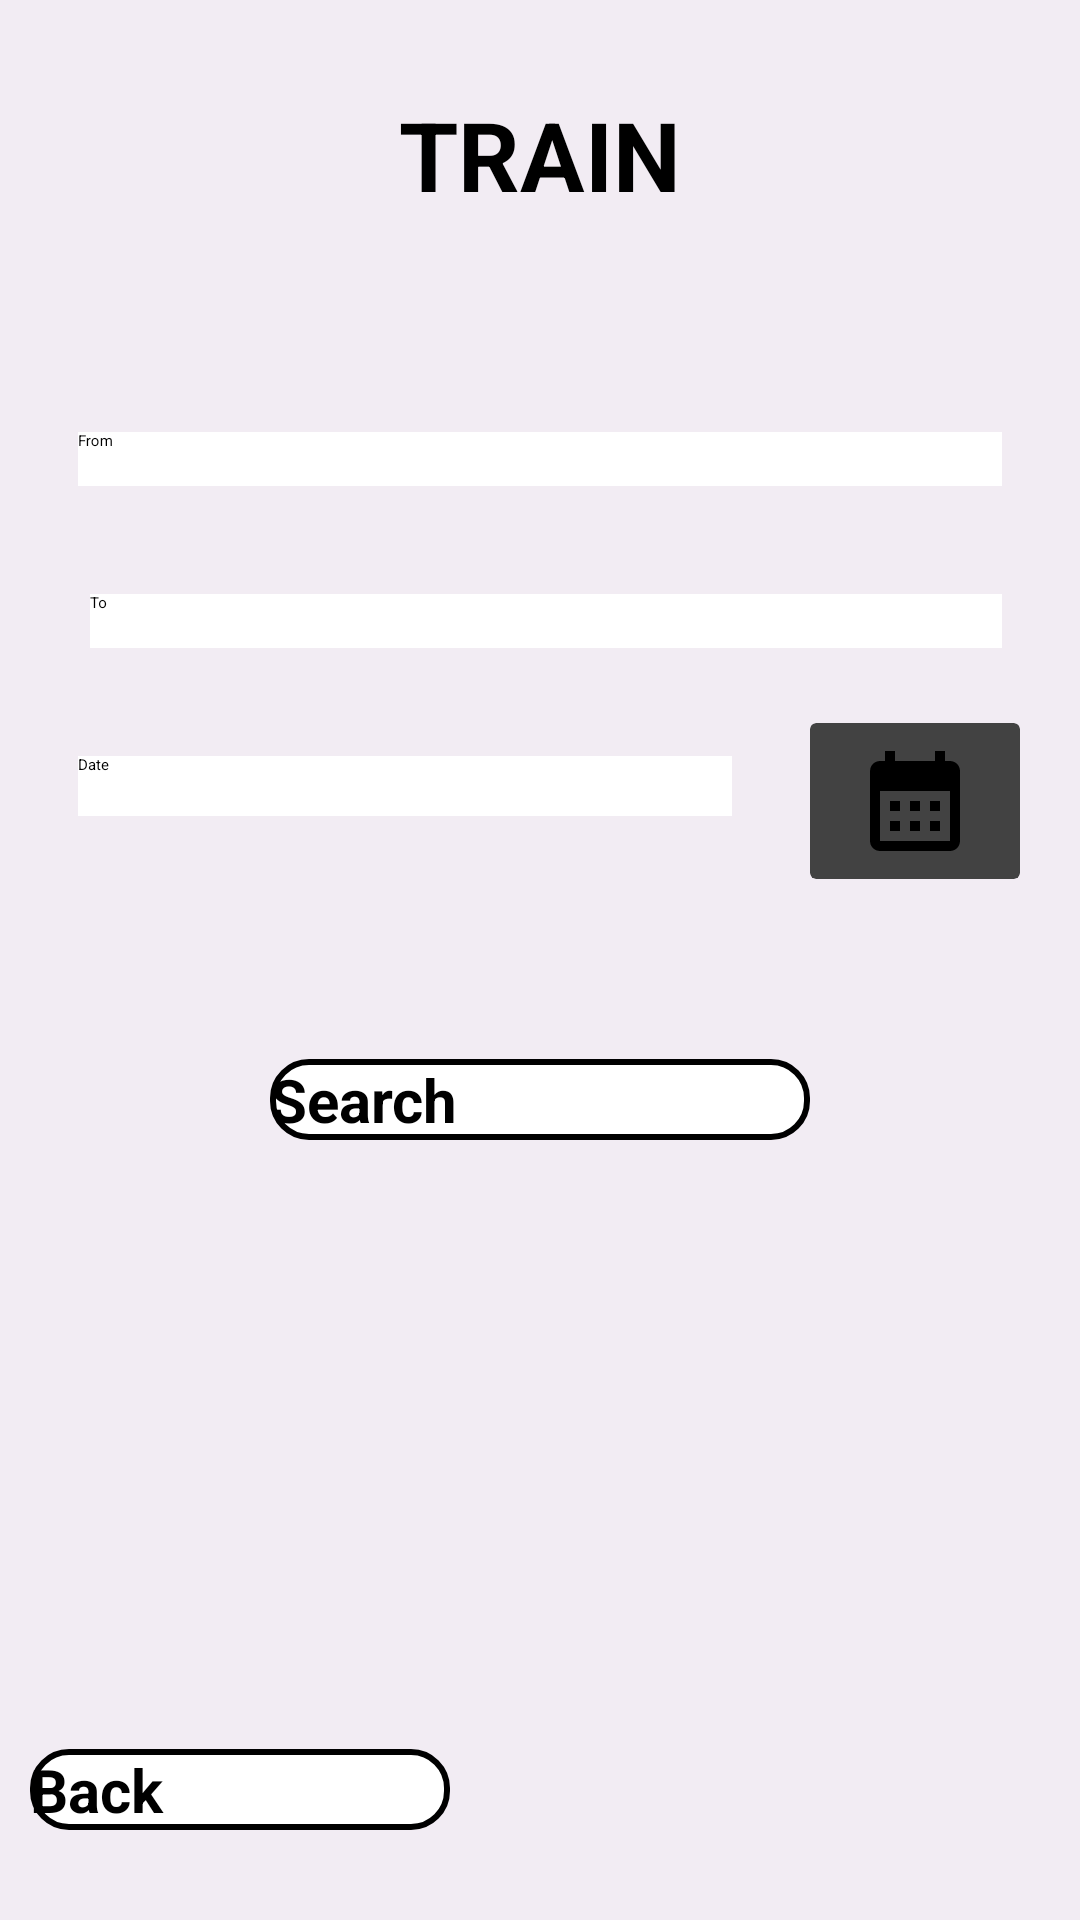

Icon bounding boxes for this 1080px×1920px phone screenshot, format [left=x1, top=y1, right=x2, bottom=y2]:
calendar: [left=870, top=751, right=960, bottom=851]
